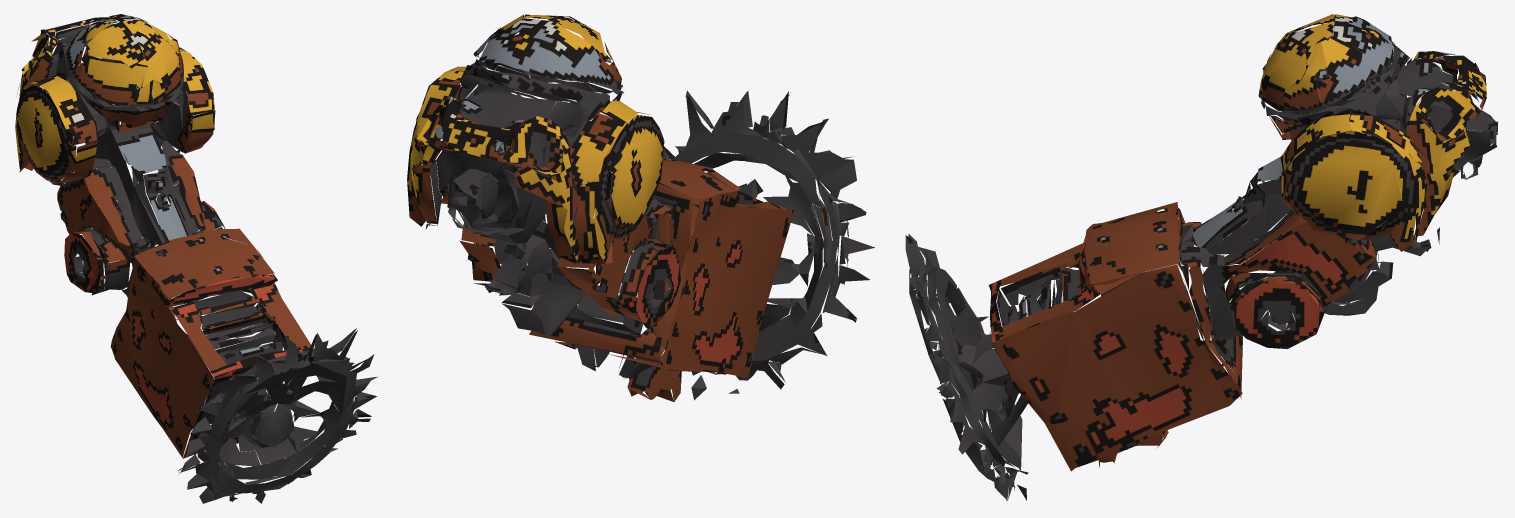
The model's file is ar_saw.glb.
3 renders of one model, left to right at view 1: azimuth 30°, elevation 25°; view 2: azimuth 150°, elevation 25°; view 3: azimuth 270°, elevation 25°, orthographic. The views are drawn at different scales.
Visible parts, largest first — view 1: ar_saw; view 2: ar_saw; view 3: ar_saw.
Boxes of the visible parts, x1,y1,x2,y2 form: ar_saw: (15, 14, 377, 503); ar_saw: (407, 14, 874, 401); ar_saw: (905, 14, 1498, 500).
Bounding box in the file's own units: 0.1894 × 0.3739 × 0.42.
Materials: 1 (1 with a texture image).
